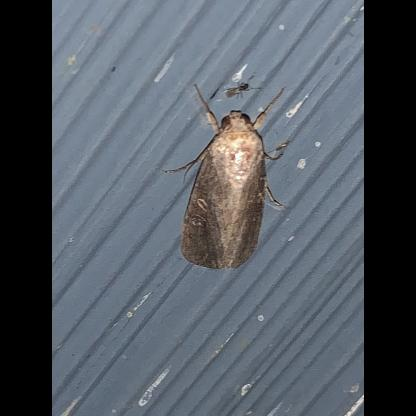Fall Armyworm Moth: (160, 81, 293, 273)
